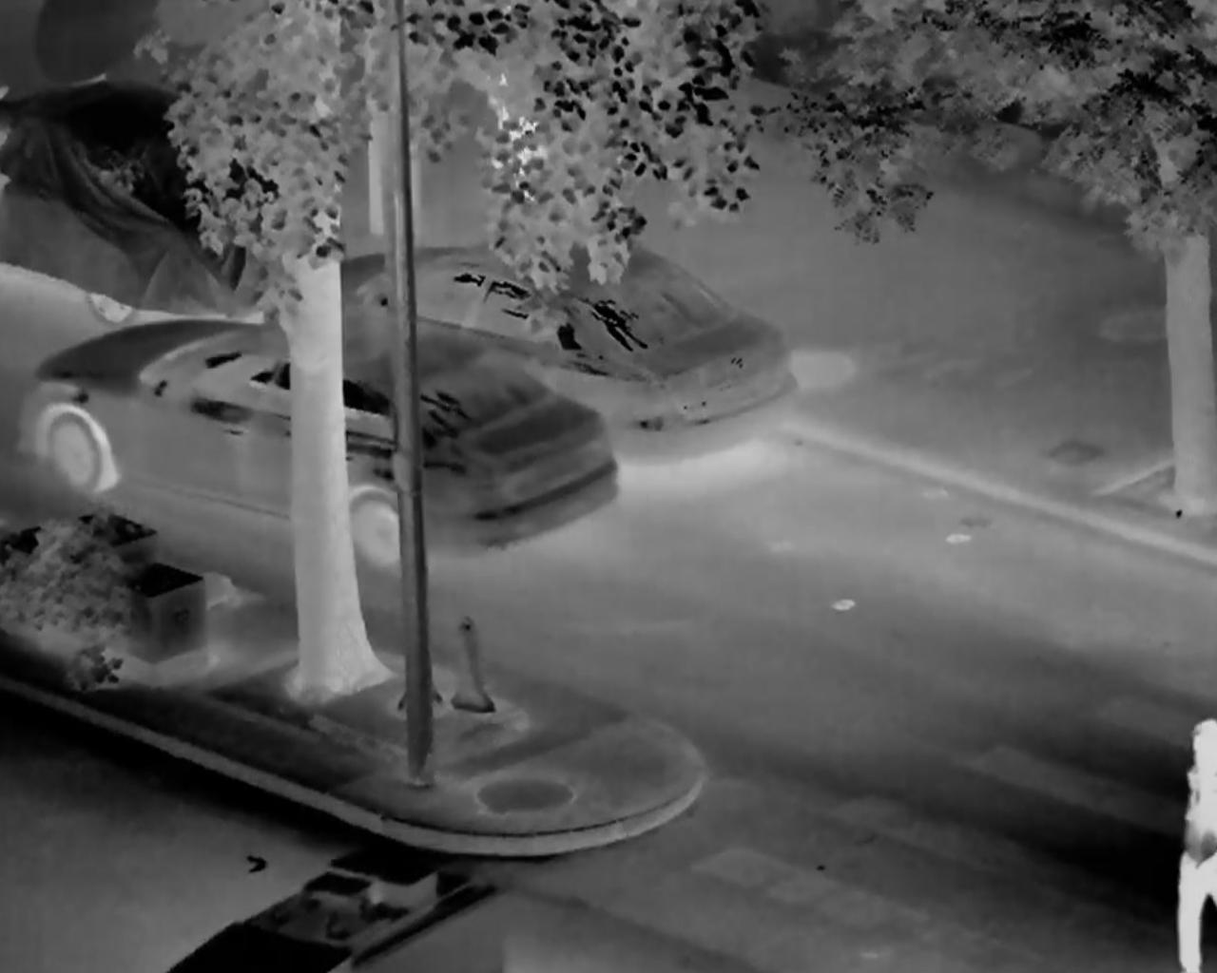person: (1167, 700, 1212, 973)
